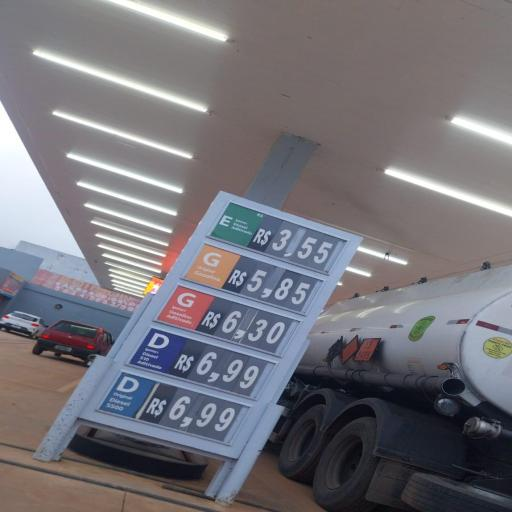ETANOL: (210, 203, 265, 249)
GASOLINA AD: (156, 285, 215, 330)
GASOLINA C: (185, 243, 239, 286)
S10: (131, 329, 184, 374)
S500: (100, 373, 155, 416)
placa: (80, 193, 362, 460)
preco: (161, 387, 240, 439), (214, 303, 293, 354), (189, 344, 266, 396), (237, 262, 317, 311), (265, 220, 340, 271)
